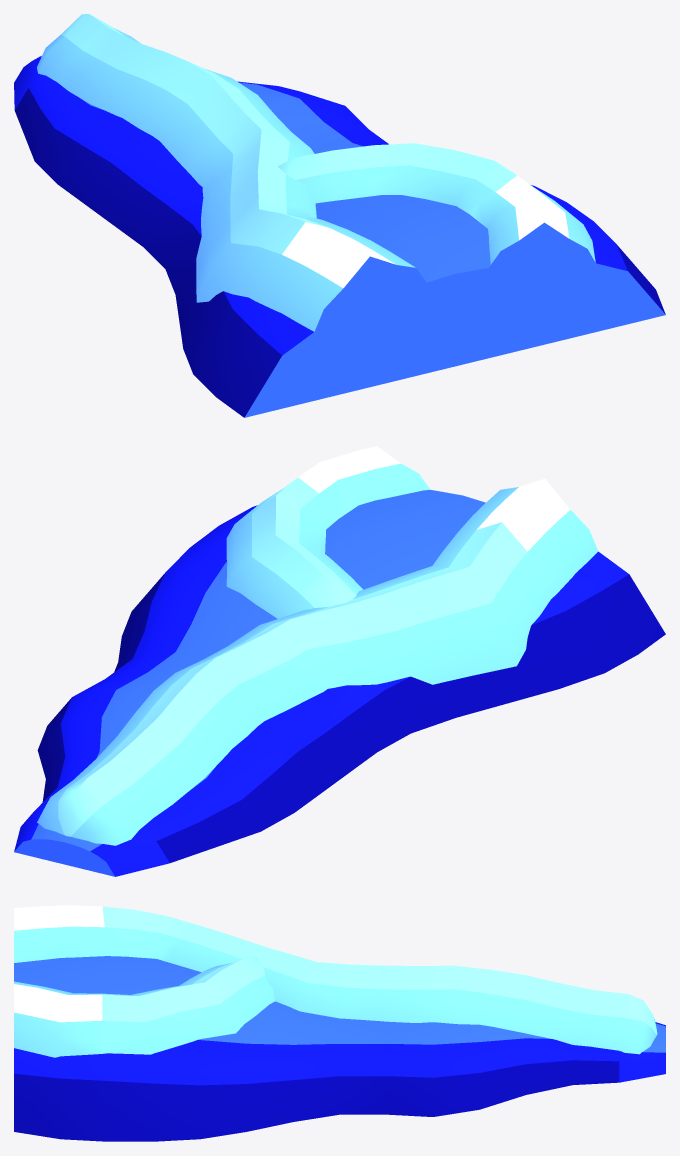
Rendered from shot_lightning_210.glb.
The picture shows the model from 3 angles, top to bottom: view 1: azimuth 30°, elevation 25°; view 2: azimuth 150°, elevation 25°; view 3: azimuth 270°, elevation 25°; orthographic projection. The views are drawn at different scales.
Parts seen in each view (by area): view 1: shot_lightning_210_0, shot_lightning_210_1, shot_lightning_210_2; view 2: shot_lightning_210_0, shot_lightning_210_1, shot_lightning_210_2; view 3: shot_lightning_210_0, shot_lightning_210_1, shot_lightning_210_2.
Part boxes in pixels (box(x1,y1,x2,y2)): shot_lightning_210_0: box(14, 56, 665, 417); shot_lightning_210_1: box(37, 14, 429, 339); shot_lightning_210_2: box(278, 143, 599, 273); shot_lightning_210_0: box(14, 489, 665, 876); shot_lightning_210_1: box(37, 479, 598, 845); shot_lightning_210_2: box(226, 446, 430, 618); shot_lightning_210_0: box(14, 956, 665, 1141); shot_lightning_210_1: box(14, 905, 657, 1054); shot_lightning_210_2: box(14, 956, 274, 1057).
Bounding box in the file's own units: 9 × 2.53 × 14.
